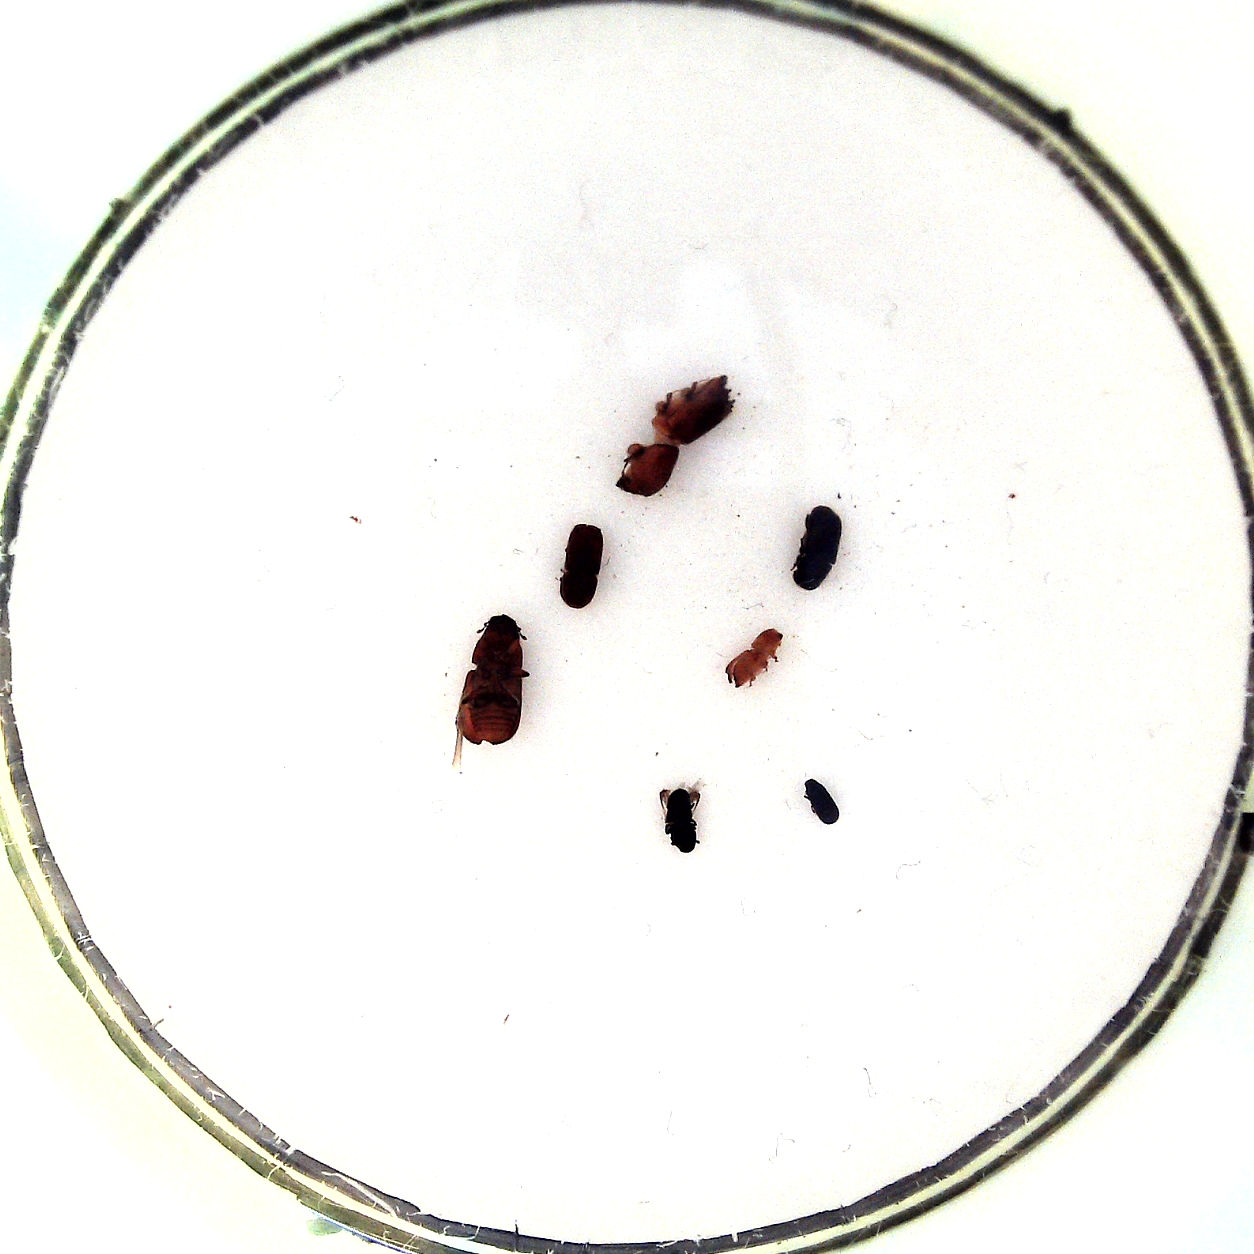Boerner: (609, 373, 738, 501)
Leconte: (446, 606, 535, 761)
Linnaeus: (556, 519, 609, 616)
acuminatus: (722, 624, 789, 694)
armandi: (789, 501, 845, 593)
coleoptera: (655, 776, 717, 861), (800, 774, 850, 837)
